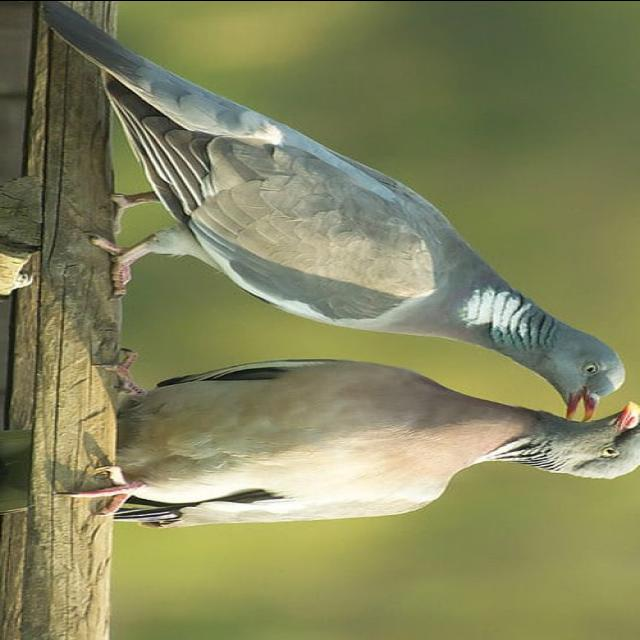pigeon: (83, 355, 640, 526)
